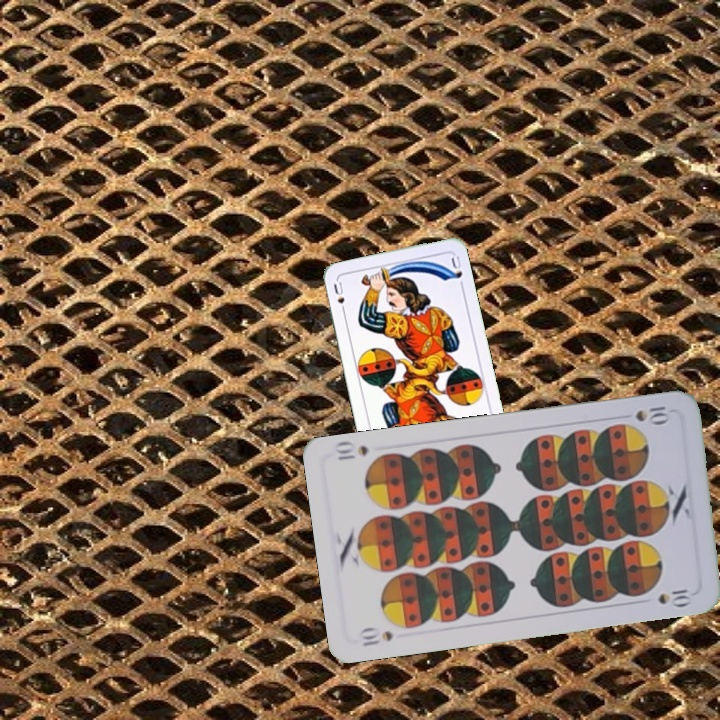S10: (632, 402, 673, 426), (355, 625, 395, 649)
SU: (329, 278, 348, 317)
